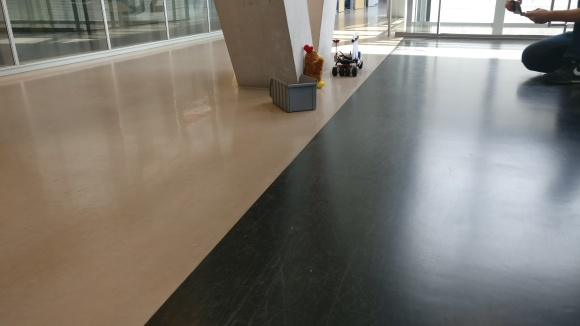car: (332, 32, 364, 79)
chicken: (301, 44, 326, 88)
tray: (268, 73, 318, 113)
